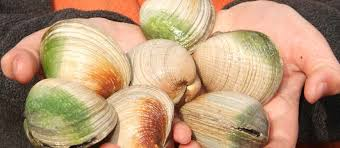cockle: (38, 20, 133, 97), (24, 77, 118, 148), (192, 29, 283, 102), (181, 90, 273, 148), (129, 38, 204, 100), (138, 1, 219, 54), (102, 88, 170, 148)
